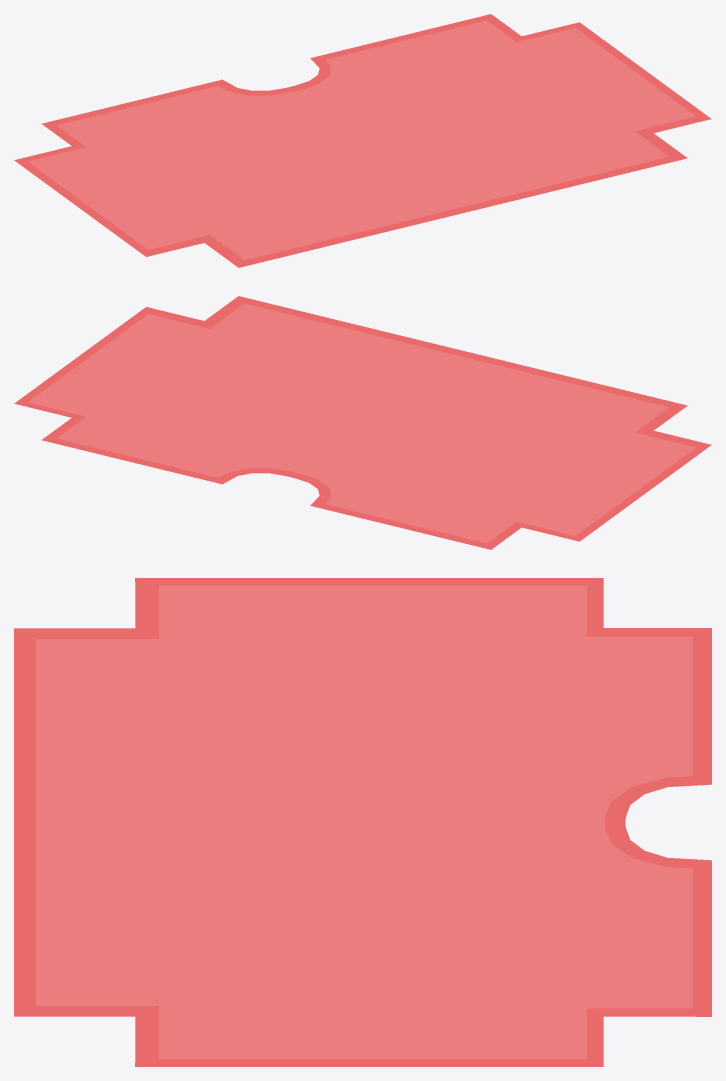
Rendered from Teeth Indicator.fbx.
3 renders of one model, top to bottom at view 1: azimuth 30°, elevation 25°; view 2: azimuth 150°, elevation 25°; view 3: azimuth 270°, elevation 25°, orthographic. The views are drawn at different scales.
Visible parts, largest first — view 1: Teeth Expansion, Teeth Base, Teeth Borders; view 2: Teeth Expansion, Teeth Base, Teeth Borders; view 3: Teeth Expansion, Teeth Base, Teeth Borders.
Part boxes in pixels (x1,y1,x2,y2): Teeth Expansion: (28, 20, 695, 259); Teeth Base: (29, 21, 694, 259); Teeth Borders: (14, 14, 711, 267); Teeth Expansion: (28, 304, 695, 542); Teeth Base: (29, 304, 694, 542); Teeth Borders: (14, 296, 711, 549); Teeth Expansion: (36, 586, 692, 1058); Teeth Base: (36, 586, 691, 1058); Teeth Borders: (14, 578, 711, 1066).
Size of the model in its own units: 1494 by 0.0935 by 902.
